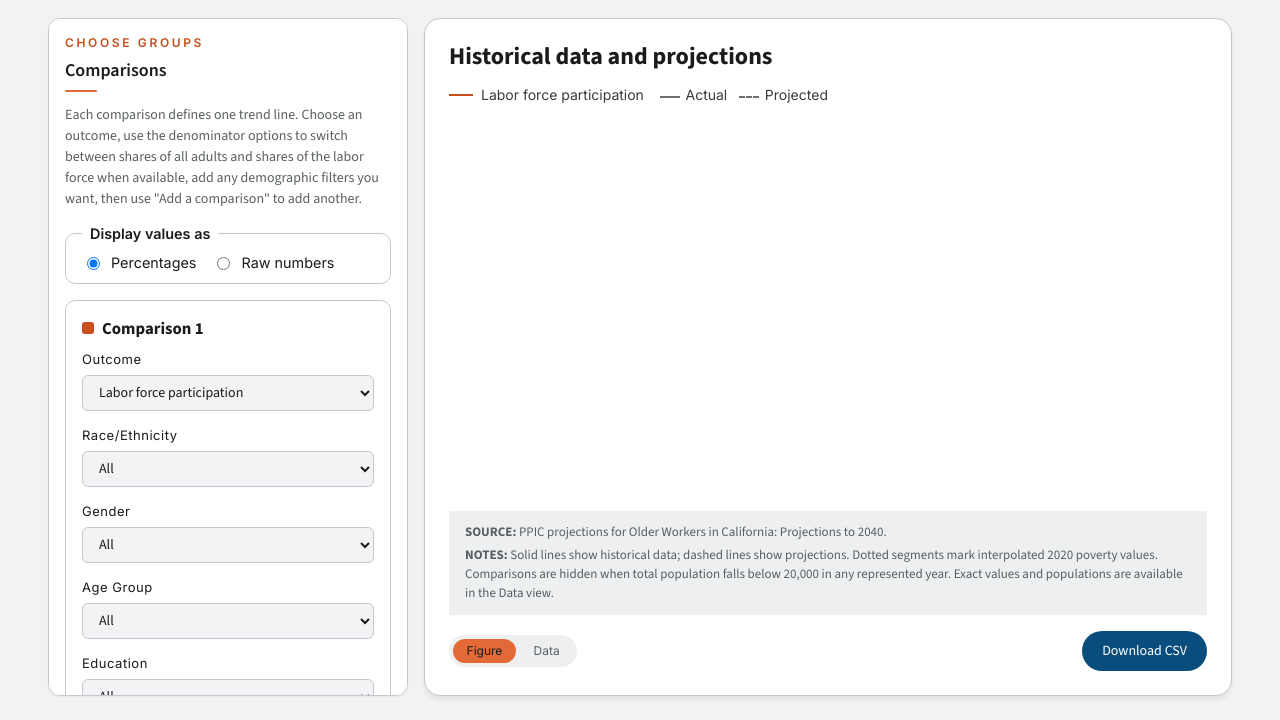
Scenario: App › switches between the figure and the data table
The width and height of the screenshot is (1280, 720).
(page scrolled)
expect the heading "Comparisons" is shown: met, box 65,58 -> 167,82
Click the button "Data".
click(547, 651)  # box 520,638 -> 573,663
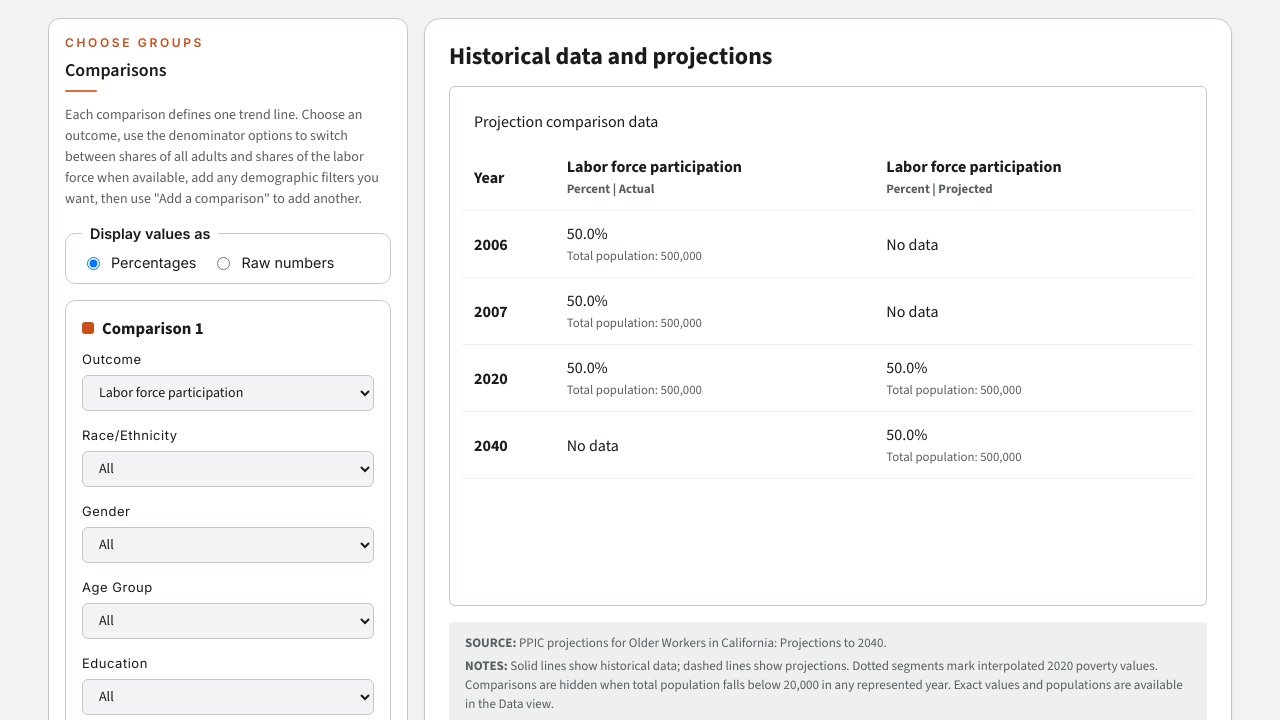
expect the table is shown: met, box 462,99 -> 1194,479
